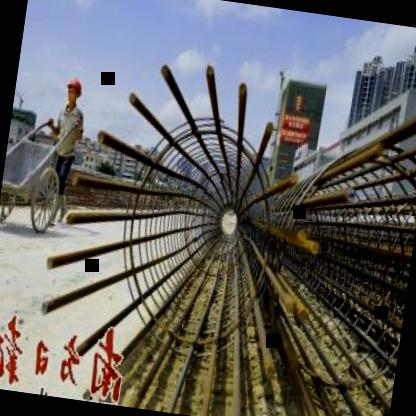helmet: (60, 74, 84, 110)
